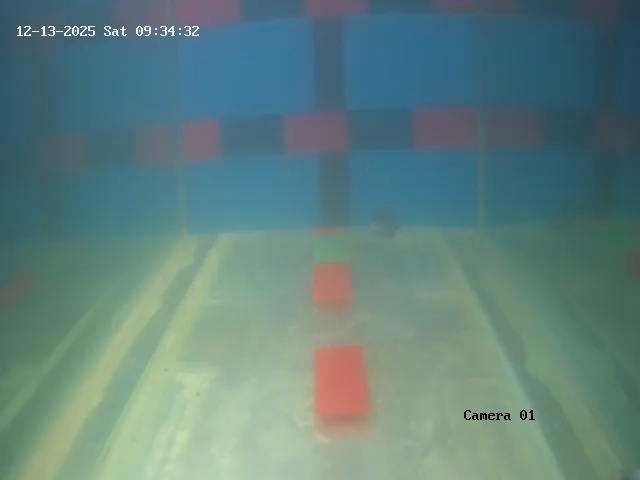fish: (366, 213, 398, 235)
